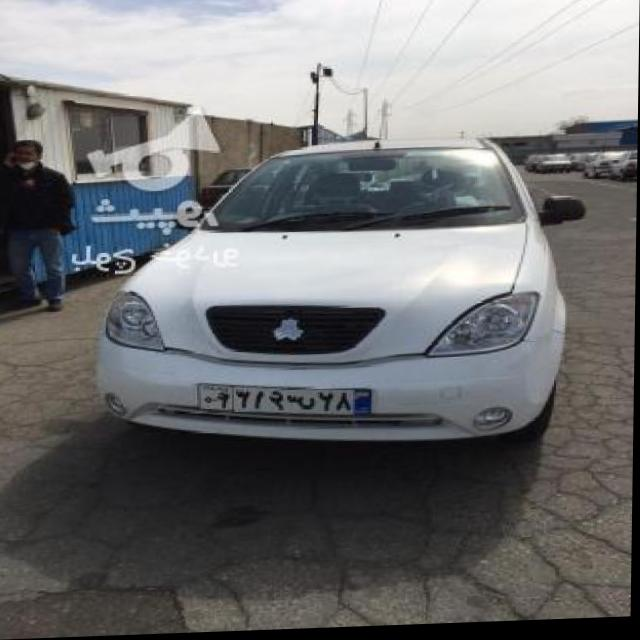licence: (196, 375, 379, 426)
